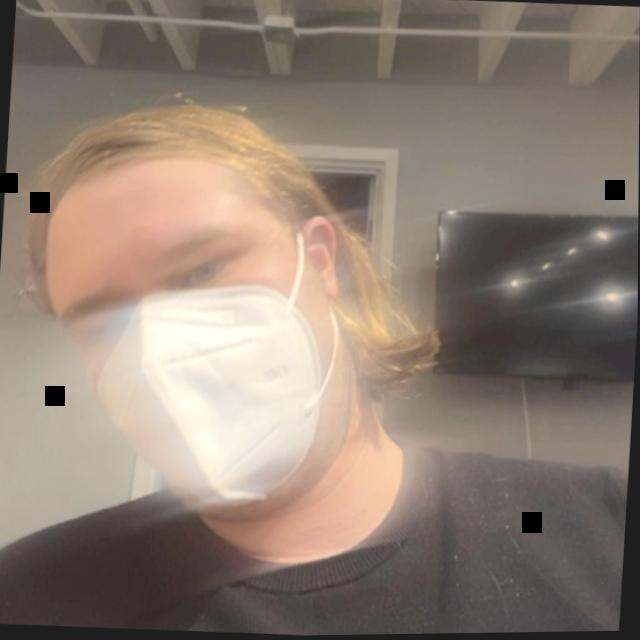Mask: (17, 57, 478, 577)
